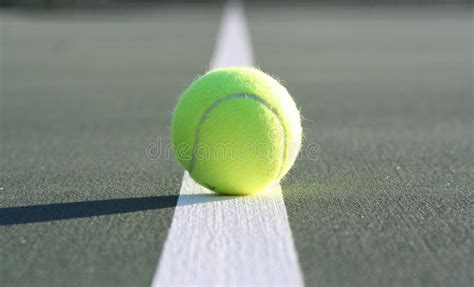tennis_ball: (172, 66, 302, 195)
